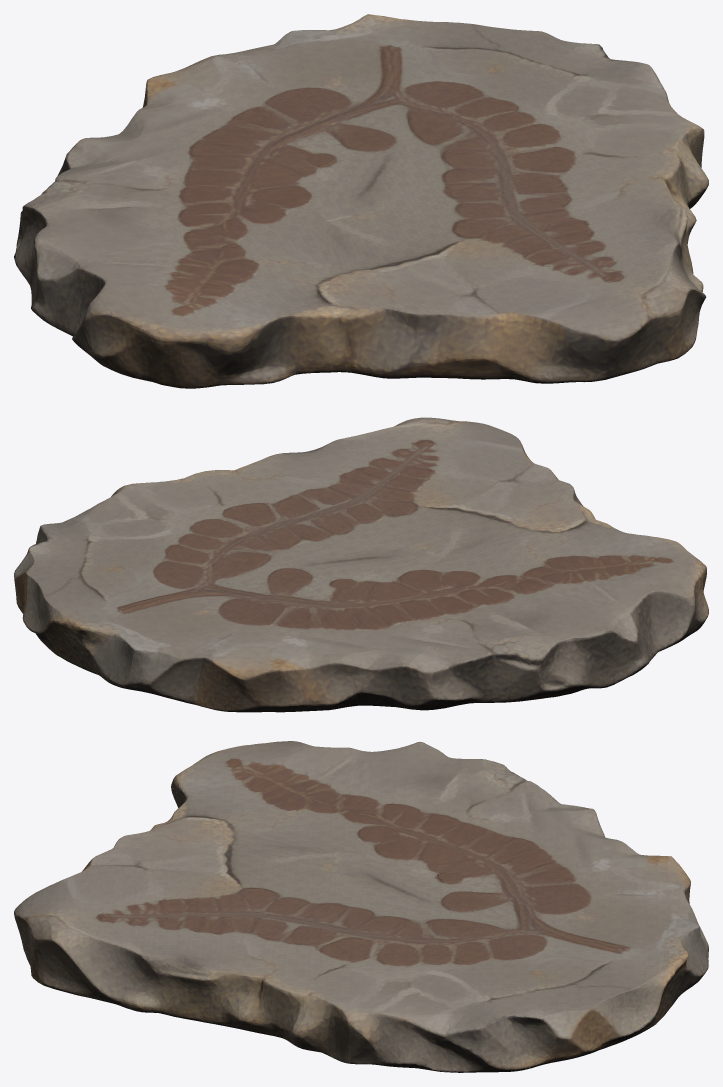
The picture shows the model from 3 angles, top to bottom: view 1: azimuth 30°, elevation 25°; view 2: azimuth 150°, elevation 25°; view 3: azimuth 270°, elevation 25°; orthographic projection. The views are drawn at different scales.
Parts seen in each view (by area): view 1: world; view 2: world; view 3: world.
Part boxes in pixels (x1,y1,x2,y2): world: (14, 14, 708, 388); world: (14, 417, 708, 712); world: (14, 741, 708, 1072).
Bounding box in the file's own units: 1 × 0.0946 × 1.
1 material, 1 textured.
